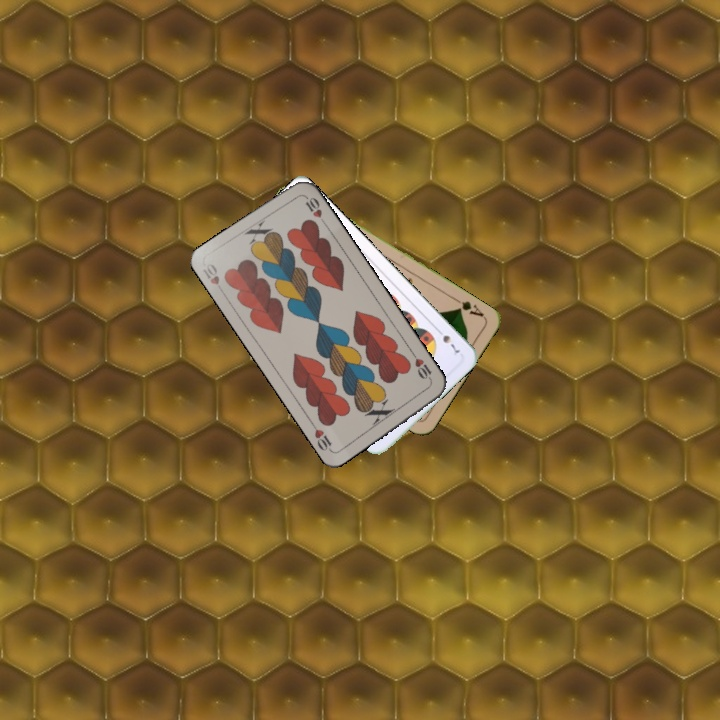GA: (450, 294, 486, 320)
H10: (198, 259, 227, 297), (408, 348, 435, 385)
S7: (432, 324, 463, 356)
